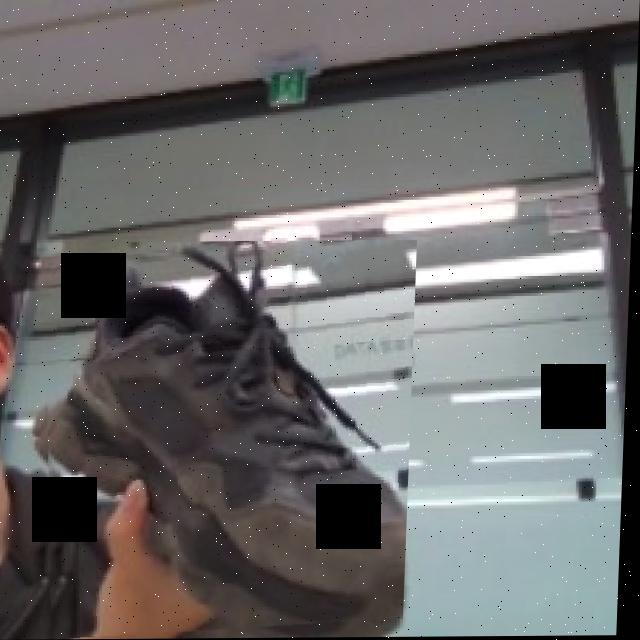shoe: (35, 241, 419, 640)
